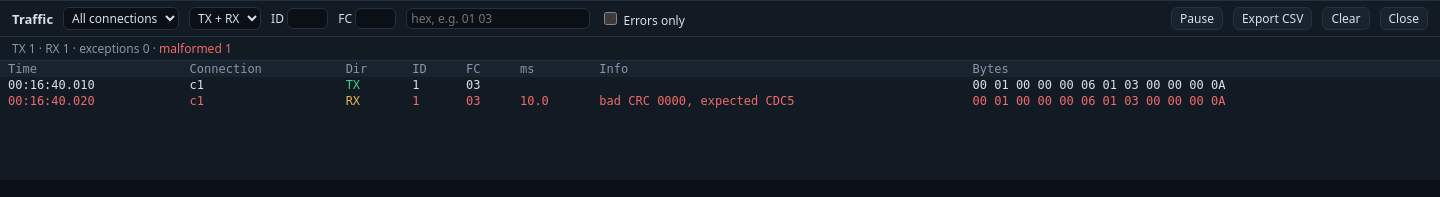
TrafficPanel › filters errors only and clears on the server
What coordinates should you click on to do the following:
click the checkbox labelled "Errors only"
I would click on:
 (611, 18)
Its box is top-left (604, 12), bottom-right (617, 24).
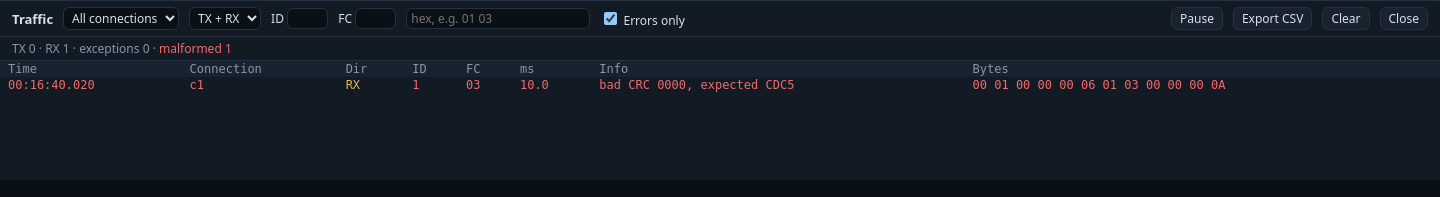
Expected: the row that starts with "bad CRC 0000, expected CDC5" is shown, top-left (599, 78), bottom-right (794, 92)
What coordinates should you click on to do the following:
click the button "Clear"
I would click on:
 (1346, 18)
Its box is top-left (1322, 7), bottom-right (1370, 30).
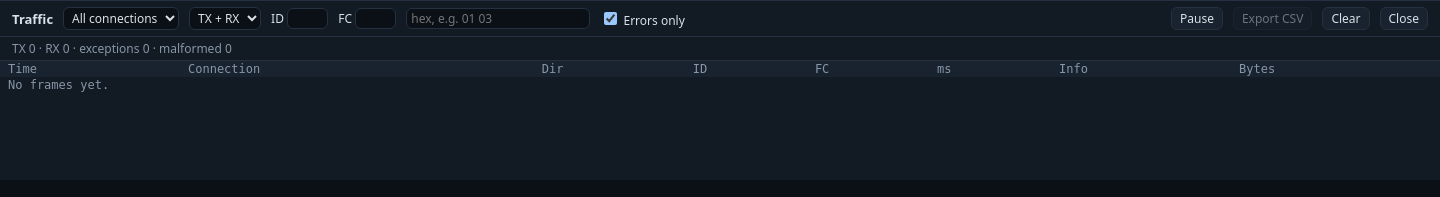
Now the text "No frames yet." is shown, box top-left (0, 77), bottom-right (1439, 93)
